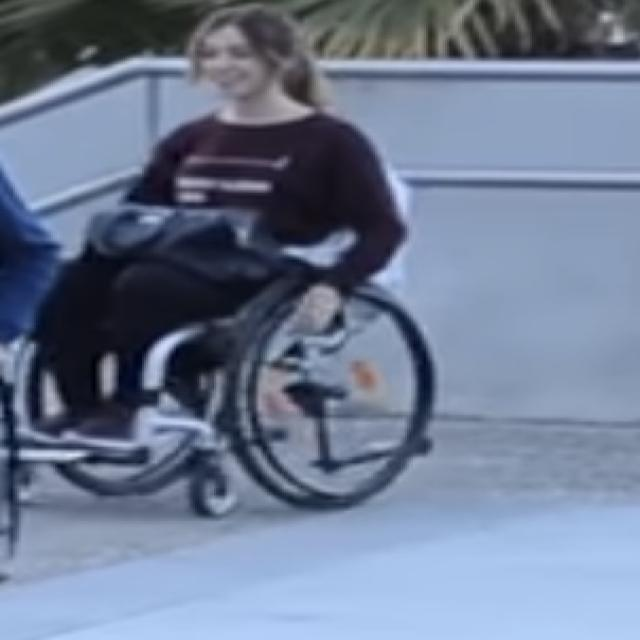wheelchairs: (13, 157, 441, 518)
